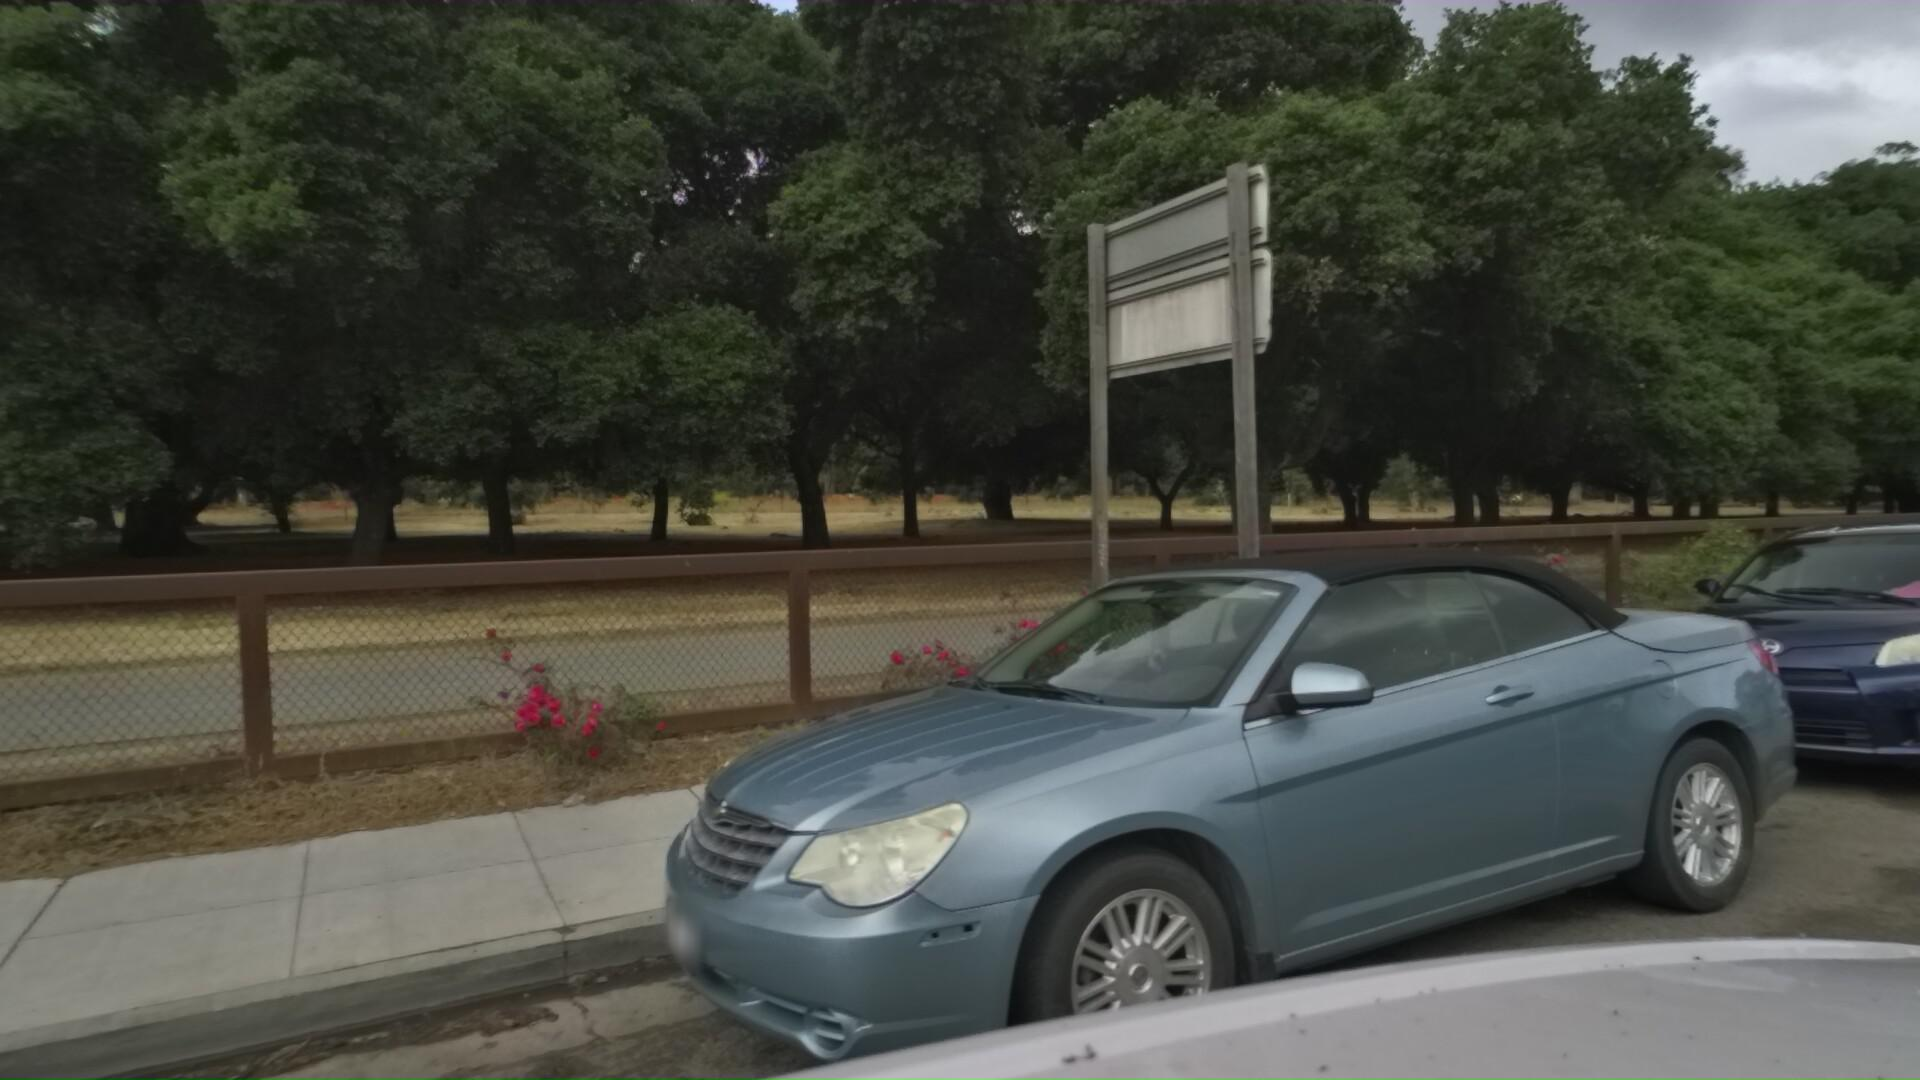car: (663, 547, 1883, 1080), (1625, 506, 1920, 839)
other_vehicle: (1876, 224, 1920, 773)
